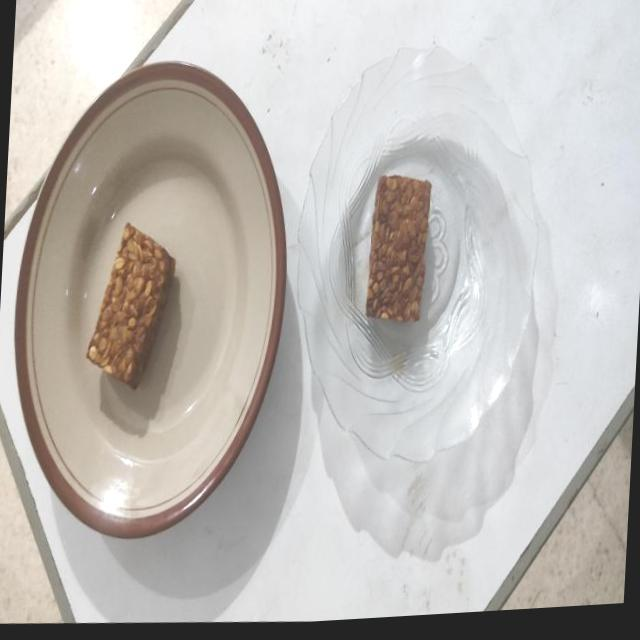tempe_goreng: (87, 224, 175, 386), (366, 176, 431, 321)
